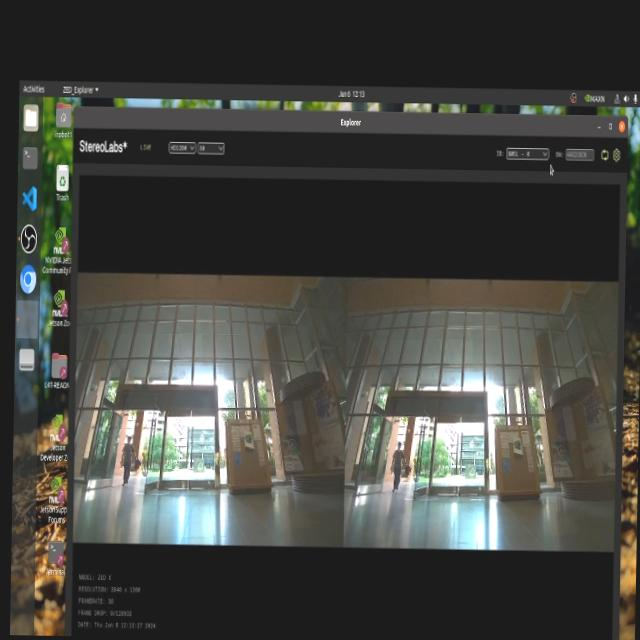green: (512, 435, 524, 456), (242, 430, 251, 450)
